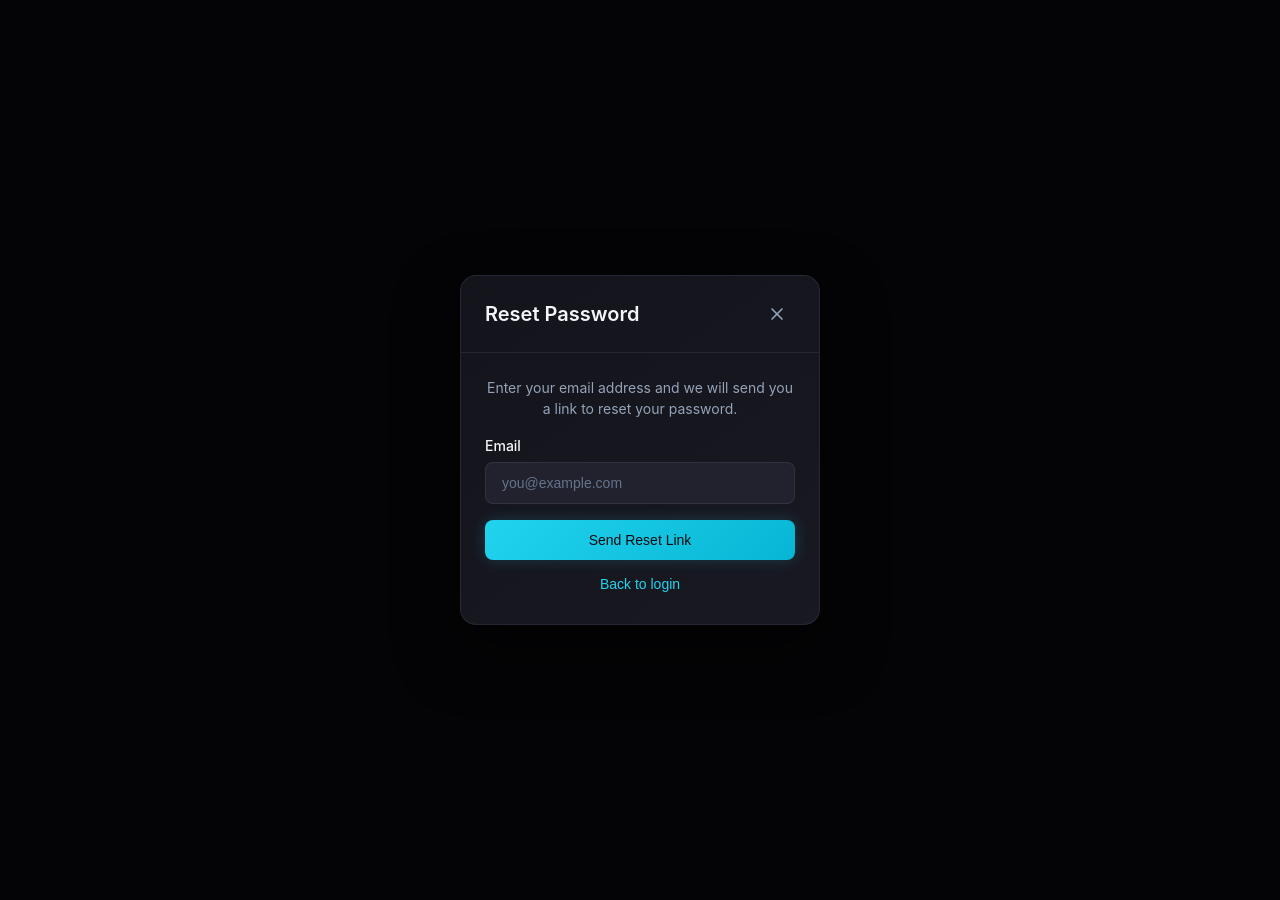
Test case: ForgotPasswordModal Component › should show error for invalid email format from backend
Type "user@example.com" into the field with test id "forgot-password-email-input" at (640, 483), box [485, 462, 795, 504]
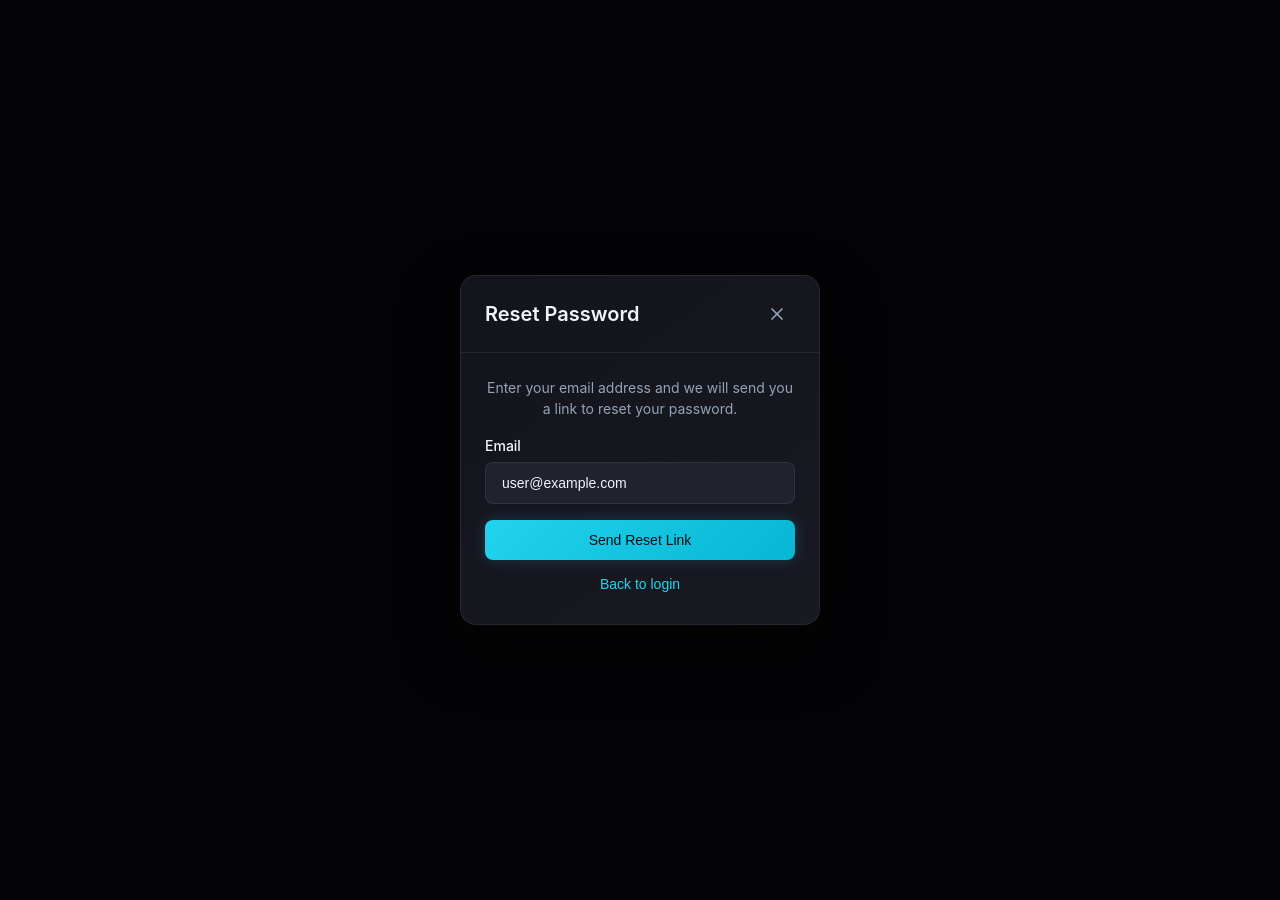
Click the button with test id "forgot-password-submit" at (640, 540), box [485, 520, 795, 560]
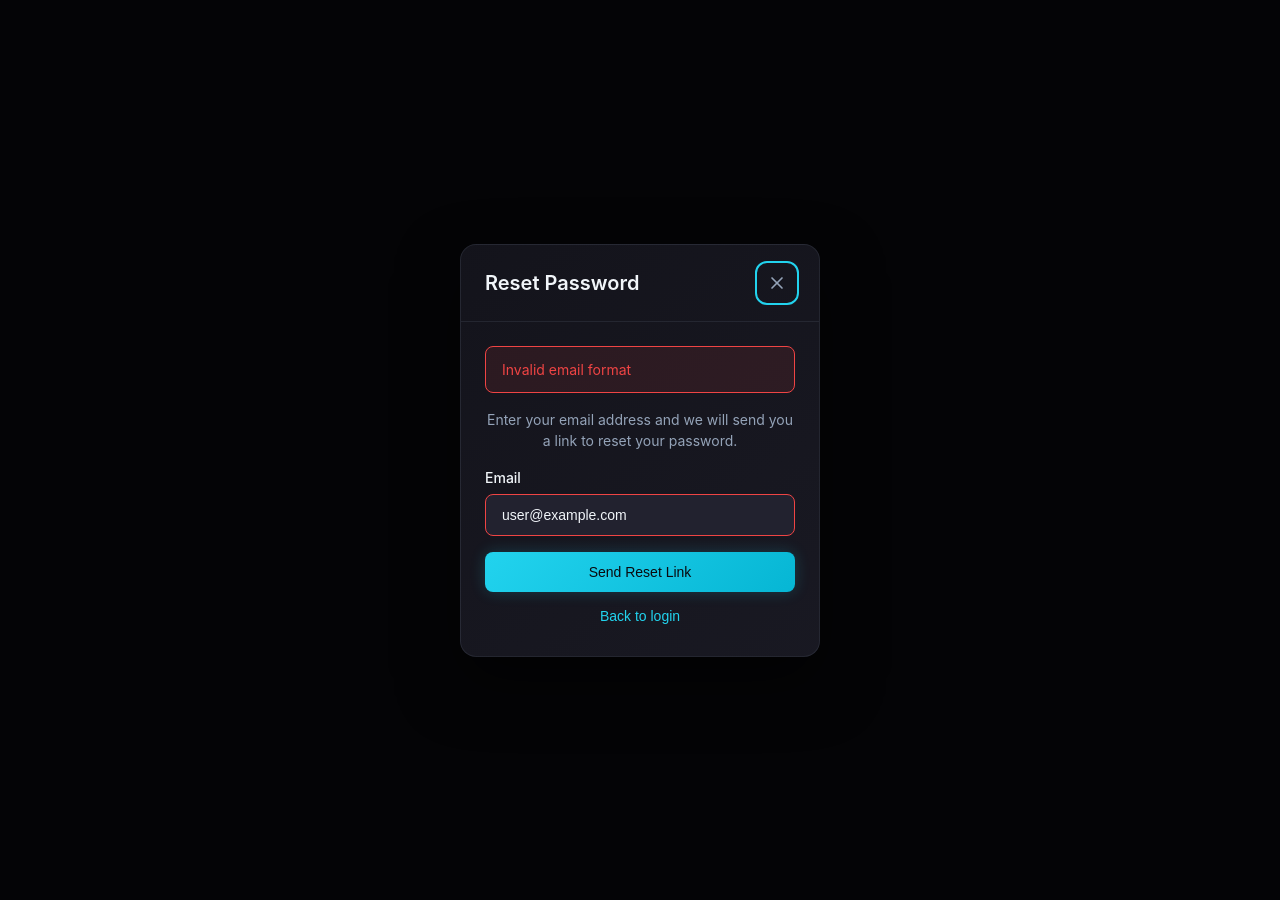
Result: the text "Invalid email format" is shown at [485, 346, 795, 392]
